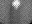person: (13, 1, 21, 9)
